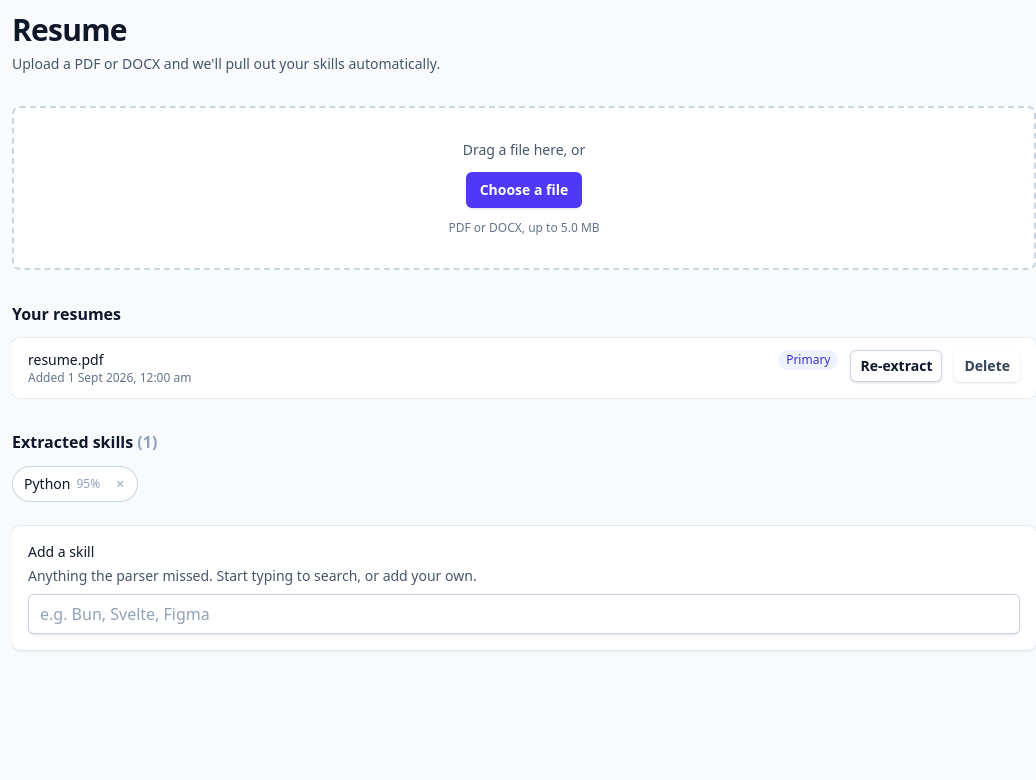
Scenario: ResumePage › failures that used to be silent › reports a failed skill removal and keeps the chip
This screenshot has width=1036, height=780.
Click the button named "Remove Python": (120, 484) [106,470,134,498]
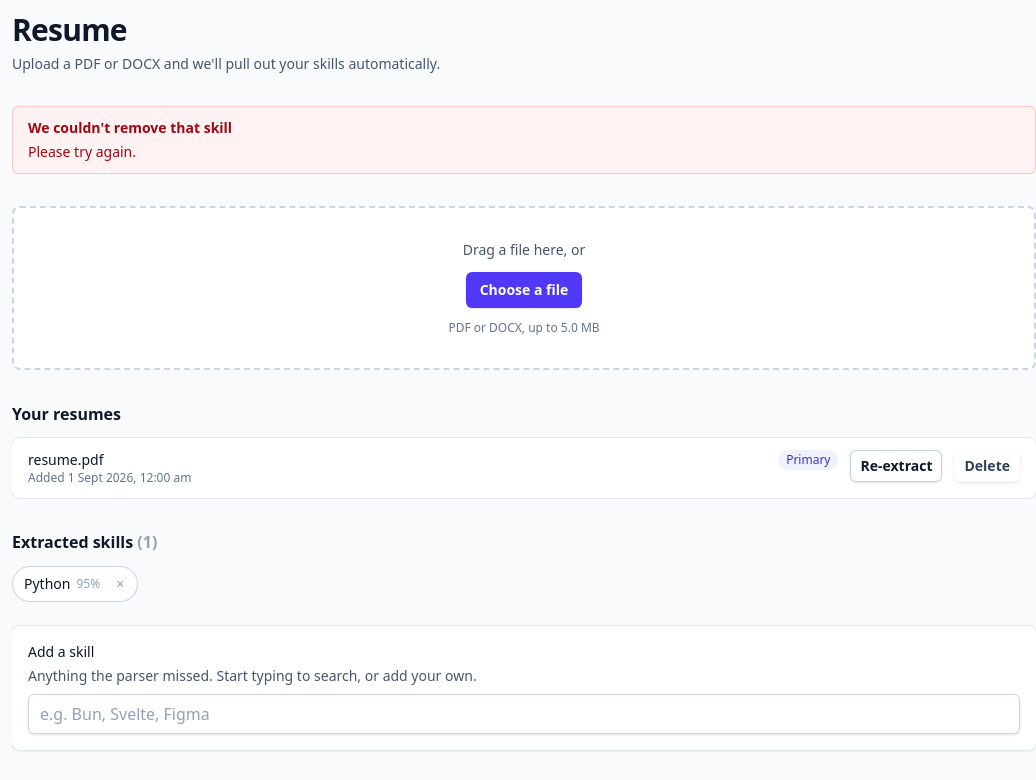
Expected: the text "Python" is shown, [24,574,70,593]
Expected: the message shows "couldn't remove that skill", [28,118,232,137]
